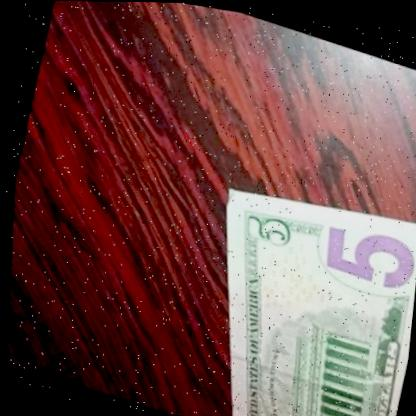five-back: (157, 151, 416, 416)
